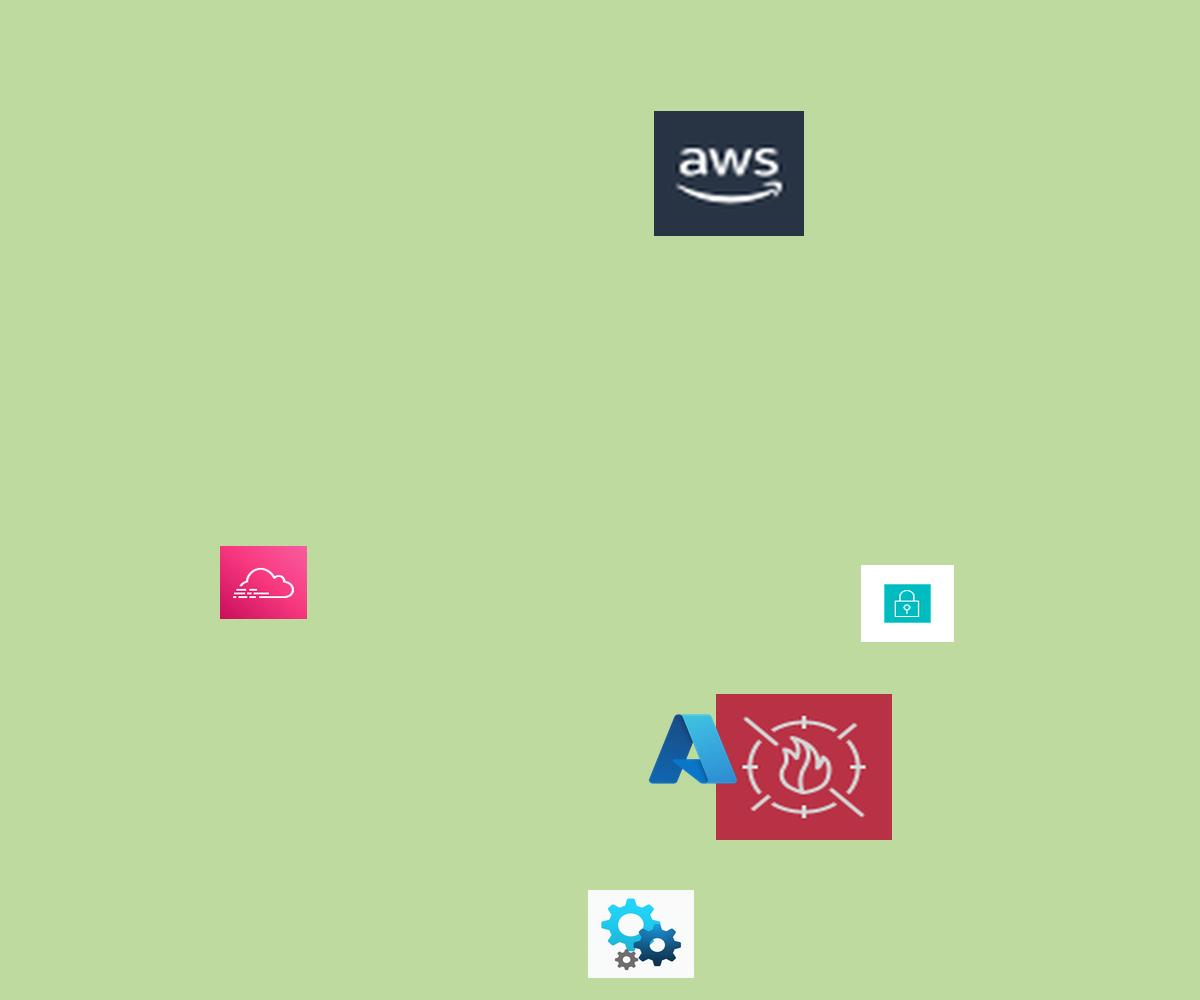AWS-Cloud-logo: (654, 111, 804, 236)
AWS-CloudTrail: (220, 546, 307, 619)
AWS-Private-subnet: (861, 565, 954, 642)
AWS-WAF: (716, 694, 892, 840)
Azure_api: (588, 890, 694, 978)
Azure_services: (645, 709, 741, 789)
